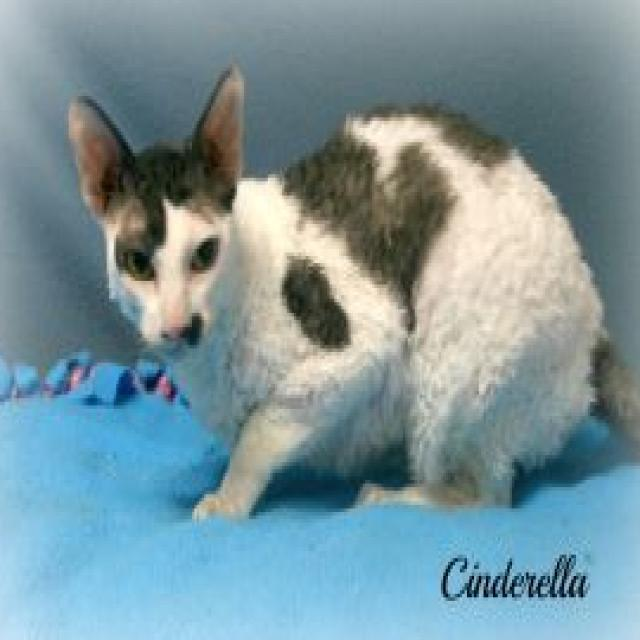Cornish Rex: (64, 53, 640, 530)
